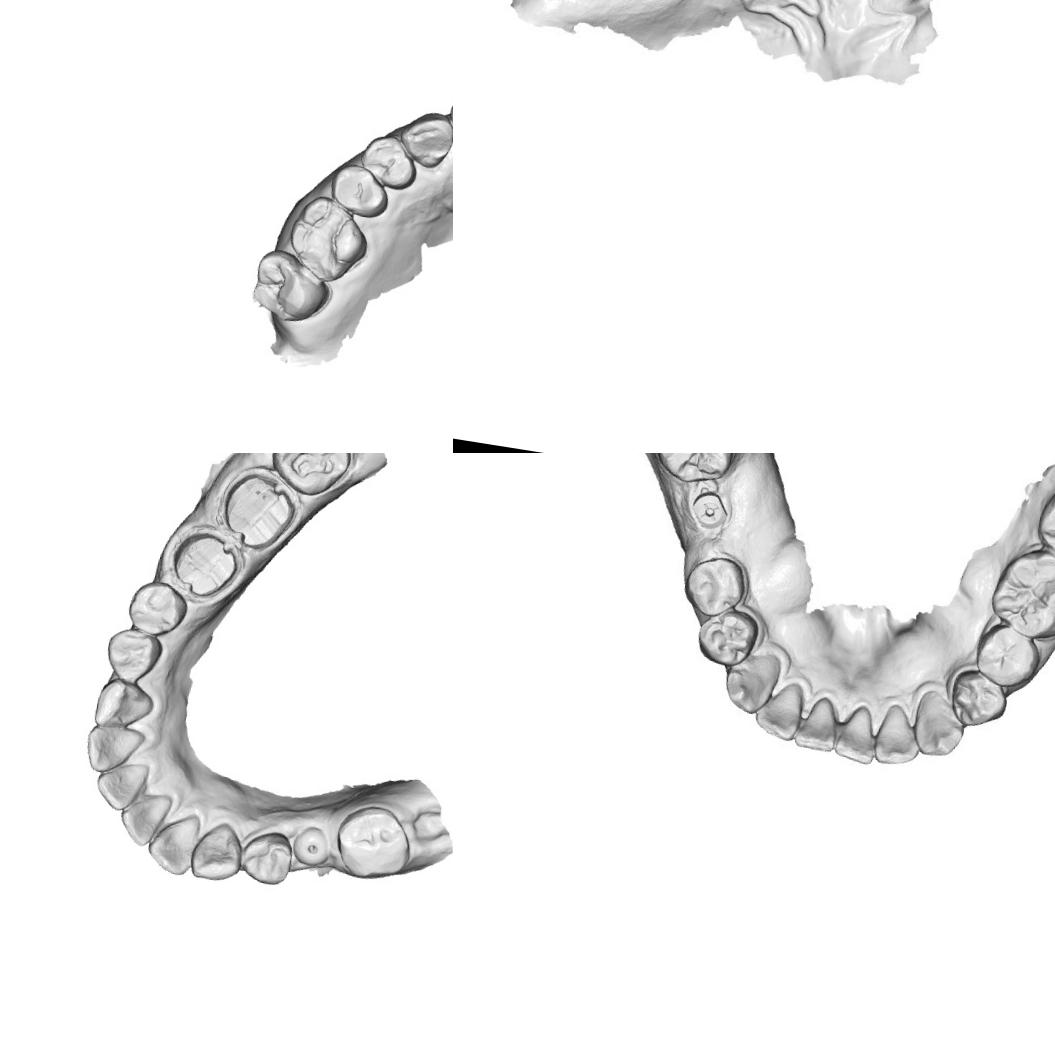canine: (718, 645, 786, 720), (912, 692, 972, 764), (186, 816, 247, 886), (92, 674, 158, 734), (396, 107, 453, 171)
crown: (214, 466, 302, 557), (164, 522, 245, 604)
implant: (289, 823, 334, 870)
implant_plus: (687, 483, 734, 532)
incisor: (868, 698, 927, 771), (143, 808, 203, 878), (115, 786, 175, 850), (751, 676, 807, 744), (91, 754, 152, 815), (81, 722, 147, 778), (832, 700, 883, 767), (792, 692, 843, 756), (875, 0, 944, 22)
molar: (282, 190, 374, 288), (328, 800, 418, 893), (245, 244, 339, 327), (984, 542, 1055, 646), (265, 453, 358, 502), (644, 453, 745, 491), (1029, 468, 1055, 572)
premolar: (970, 620, 1046, 694), (690, 602, 764, 672), (678, 550, 749, 622), (123, 576, 192, 643), (945, 666, 1013, 733), (321, 159, 394, 221), (355, 130, 423, 194), (101, 622, 166, 686), (236, 824, 297, 890)
